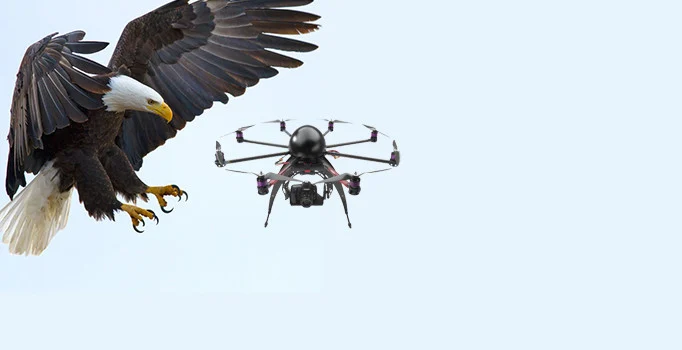Bird: (211, 110, 407, 228)
UAV: (4, 3, 322, 255)
